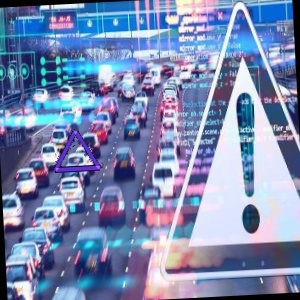triangle: (51, 124, 103, 174)
